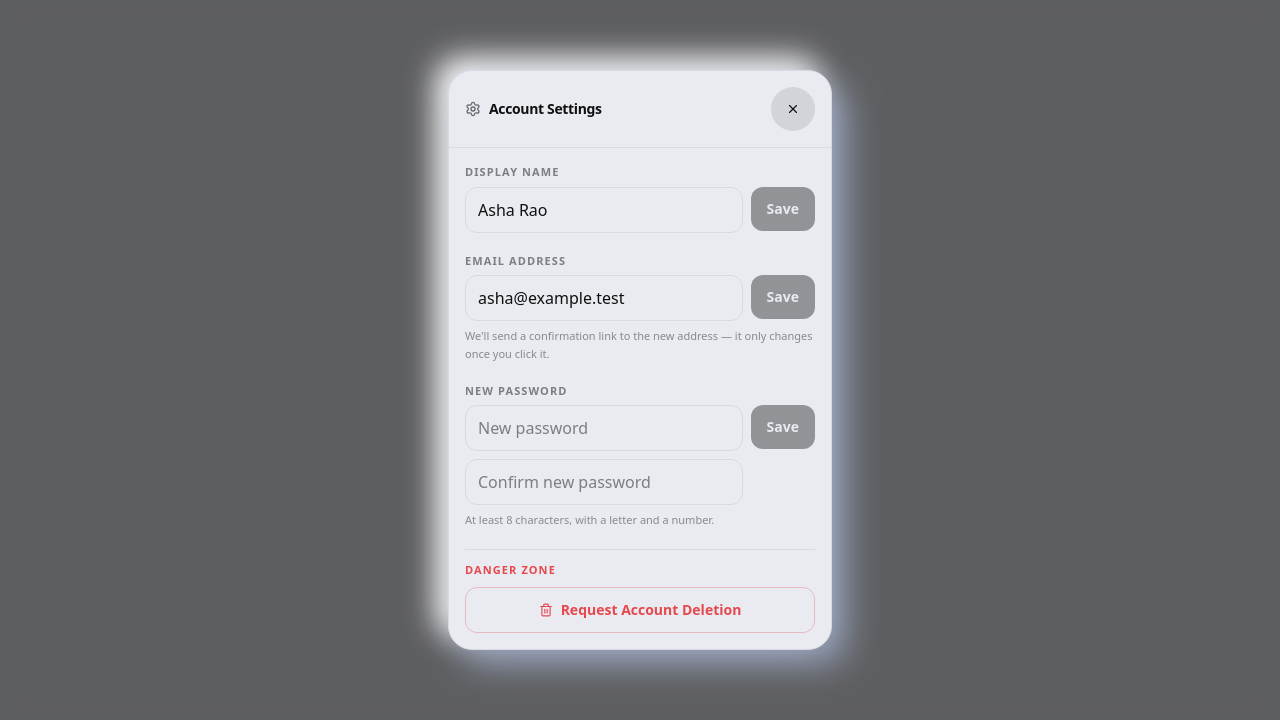
Test: AccountSettingsModal — password, on an email/password account › rejects mismatched passwords
Type "pantry2026" into the password field with placeholder "New password" at point(604, 428), box x1=465 y1=405 x2=743 y2=451
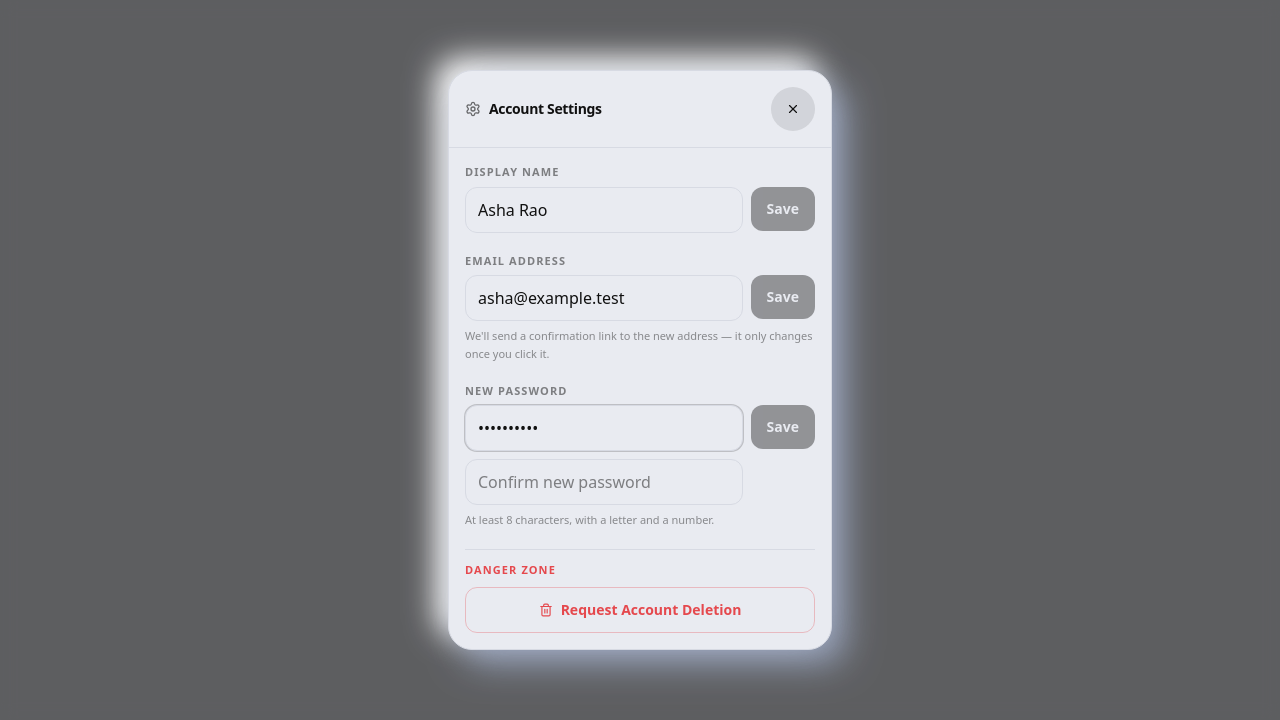
Type "pantry2027" into the password field with placeholder "Confirm new password" at point(604, 482), box x1=465 y1=459 x2=743 y2=505
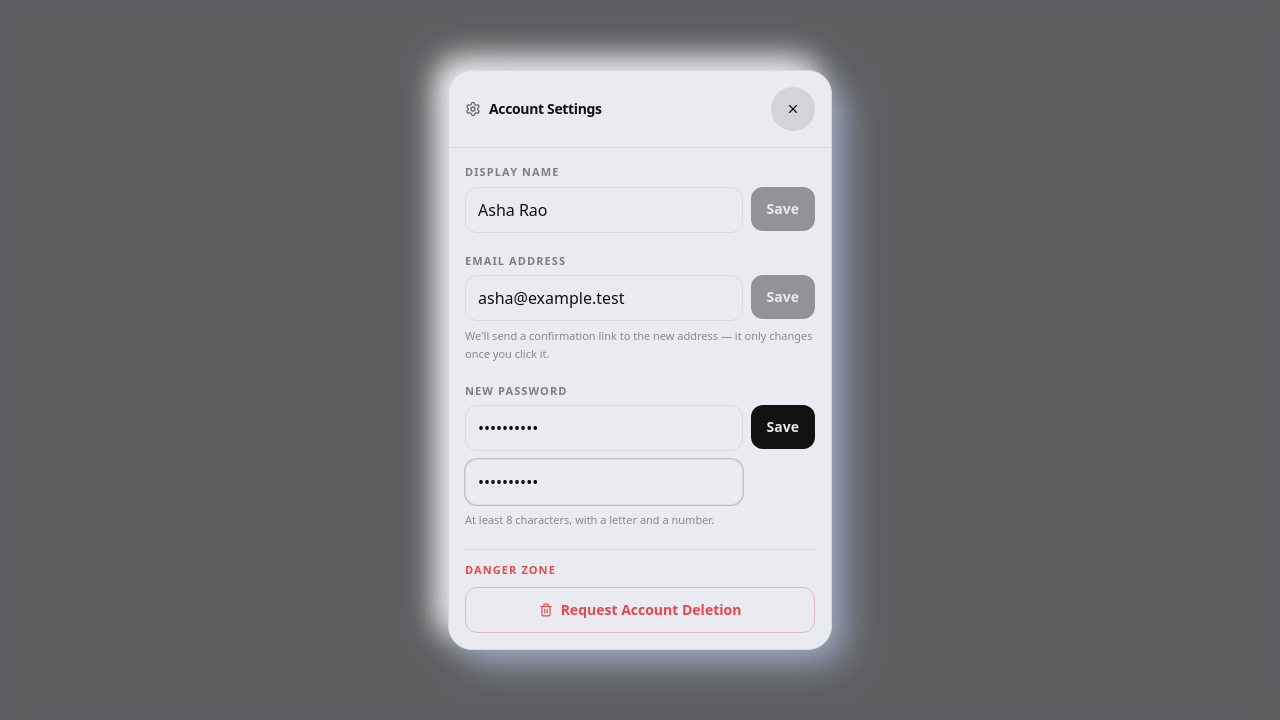
Click the button "Save" below "New Password" at point(783, 427), box x1=751 y1=405 x2=815 y2=449
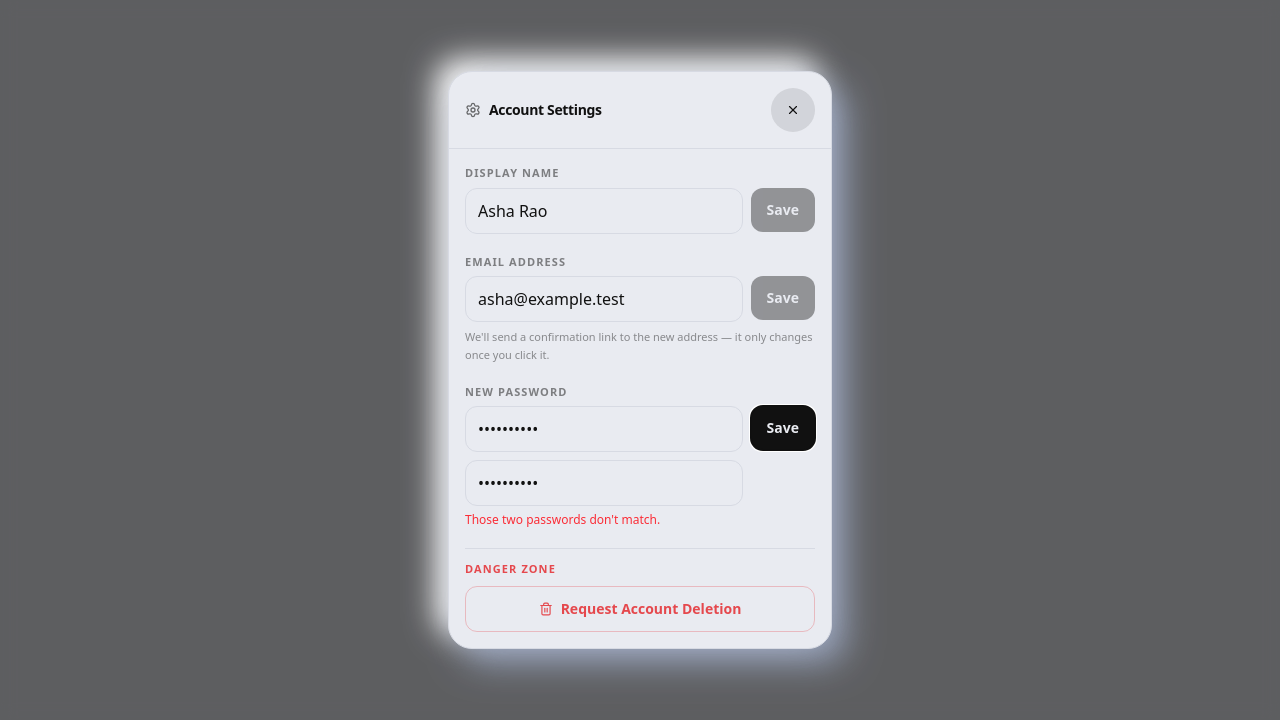
Expected: the text "Those two passwords don't match." is shown, x1=465 y1=511 x2=660 y2=528
